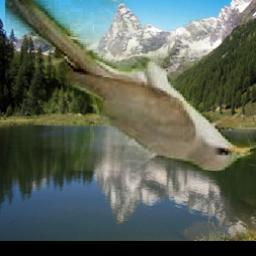Cuckoo: (4, 0, 256, 172)
